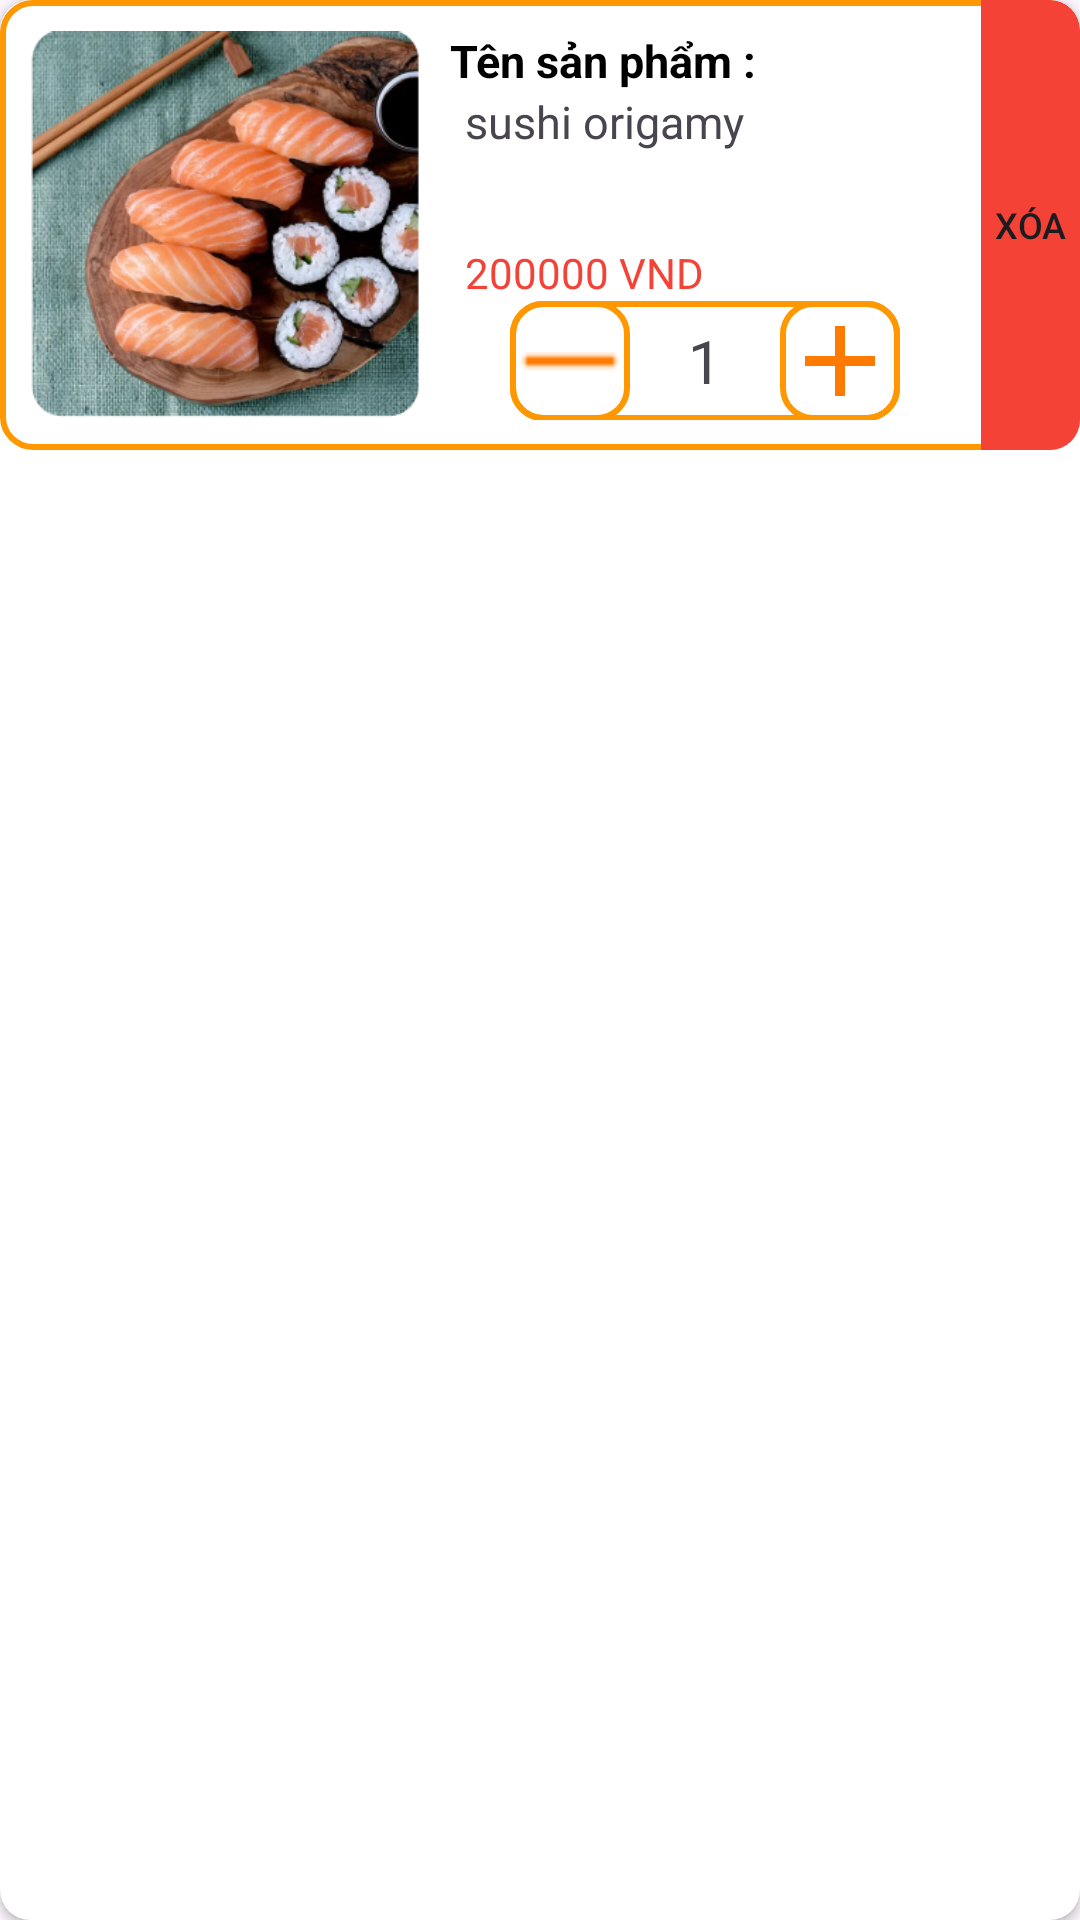

Named icons in this screenshot (1080px x 1920px) and their bounding boxes, (x1, y1, x2, y2):
add: (780, 301, 900, 420)
iconminus: (510, 301, 630, 420)
